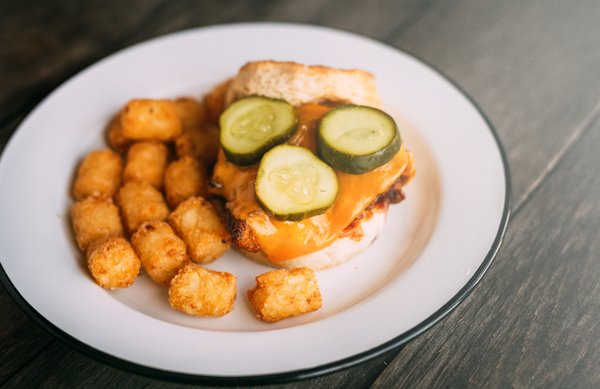pasta: (254, 144, 339, 219), (250, 267, 323, 323)
